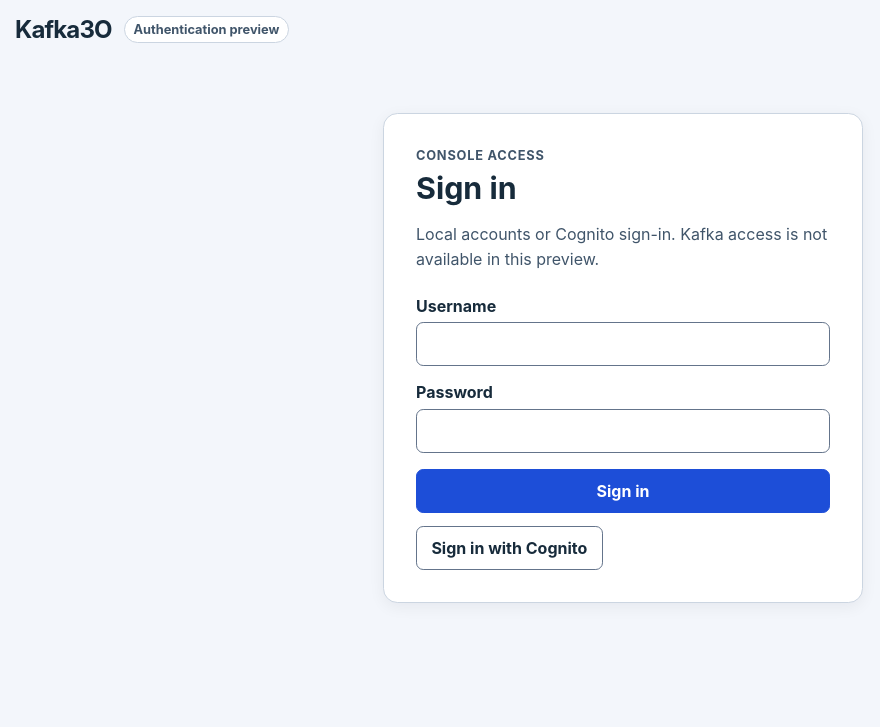
it: ConsoleSessionGate SSO › explains start failures without leaving the local form
The width and height of the screenshot is (880, 727).
Step 1. Click the button "Sign in with Cognito" → click(509, 548), box [416,526,603,570]
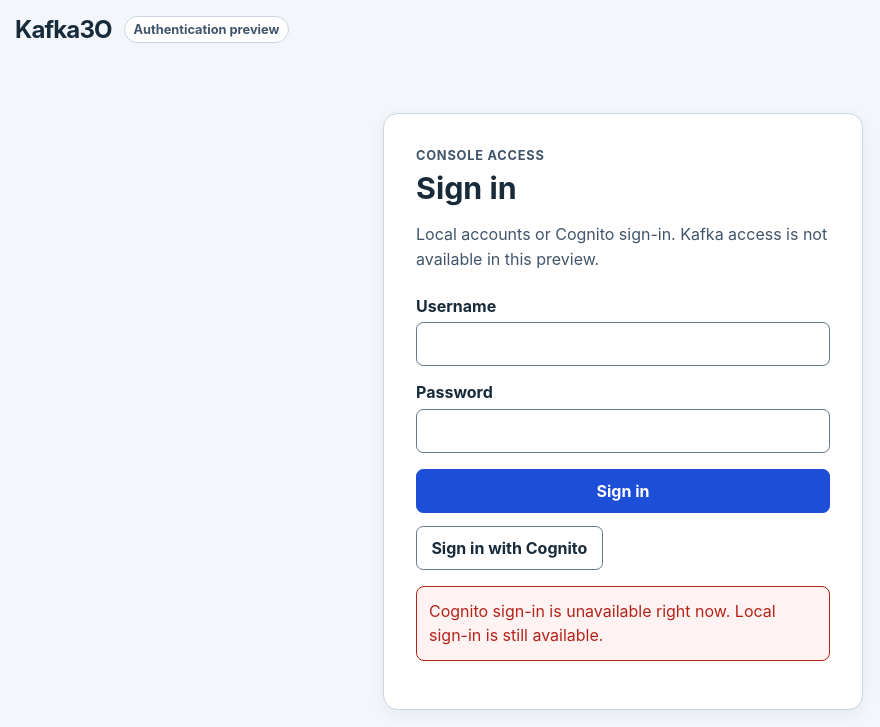
Check: the form named "Local sign-in" is shown, box [416,296,830,513]
Check: the message shows "Local sign-in is still available", box [429,601,776,645]
